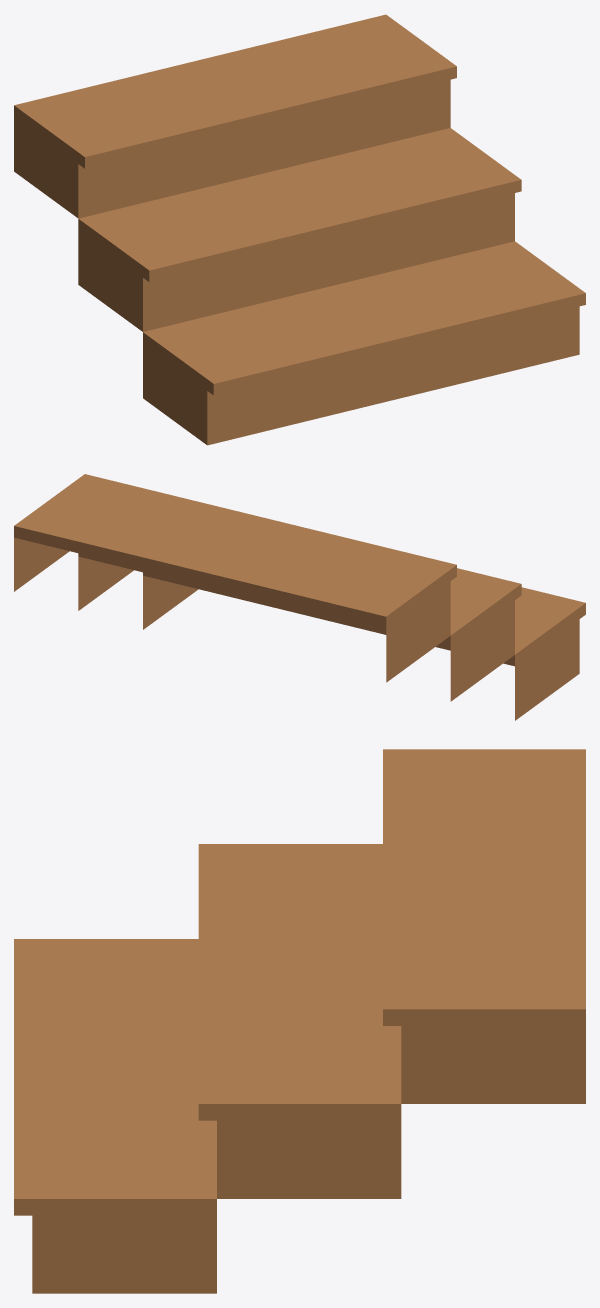
Rendered from STAIRS.fbx.
3 renders of one model, top to bottom at view 1: azimuth 30°, elevation 25°; view 2: azimuth 150°, elevation 25°; view 3: azimuth 270°, elevation 25°, orthographic. The views are drawn at different scales.
Visible parts, largest first — view 1: Stairs; view 2: Stairs; view 3: Stairs.
Boxes of the visible parts, box(x1,y1,x2,y2) form: Stairs: box(14, 14, 585, 445); Stairs: box(14, 474, 585, 720); Stairs: box(14, 749, 585, 1293).
Bounding box in the file's own units: 100 × 51 × 93.
